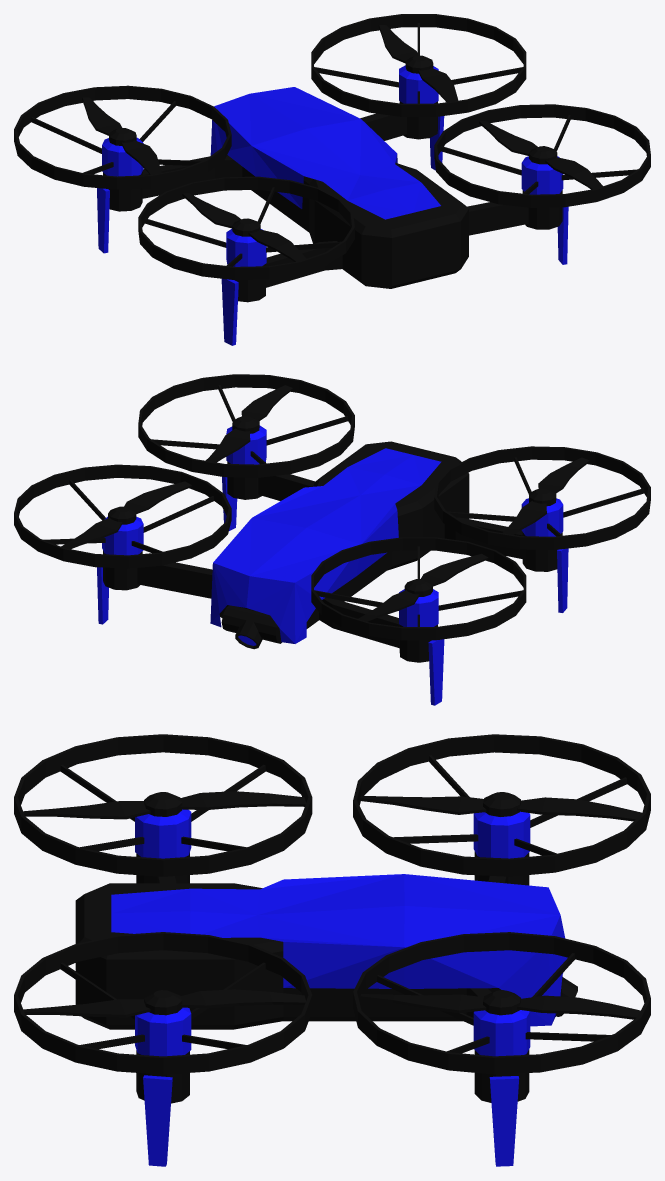
File: Drone.FBX
The picture shows the model from 3 angles, top to bottom: view 1: azimuth 30°, elevation 25°; view 2: azimuth 150°, elevation 25°; view 3: azimuth 270°, elevation 25°; orthographic projection. The views are drawn at different scales.
Parts seen in each view (by area): view 1: Drone_Grey, Drone_Color, Helix_00, Helix_002, Helix_003, Helix_01; view 2: Drone_Grey, Drone_Color, Helix_003, Helix_01, Helix_002, Helix_00; view 3: Drone_Grey, Drone_Color, Helix_00, Helix_002, Helix_003, Helix_01.
Part boxes in pixels (x1,y1,x2,y2): Drone_Grey: (14, 14, 650, 302); Drone_Color: (97, 65, 568, 345); Helix_00: (182, 193, 306, 261); Helix_002: (479, 120, 602, 189); Helix_003: (378, 25, 458, 102); Helix_01: (82, 97, 161, 174); Drone_Grey: (14, 374, 650, 662); Drone_Color: (97, 425, 568, 705); Helix_003: (61, 481, 191, 549); Helix_01: (358, 553, 488, 621); Helix_002: (206, 385, 292, 462); Helix_00: (503, 457, 589, 534); Drone_Grey: (14, 734, 650, 1103); Drone_Color: (111, 809, 567, 1166); Helix_00: (23, 791, 305, 819); Helix_002: (23, 989, 305, 1017); Helix_003: (360, 990, 640, 1019); Helix_01: (360, 792, 641, 821).
Size of the model in its own units: 90.16 by 20.62 by 74.94.
